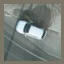car: (14, 20, 48, 41)
